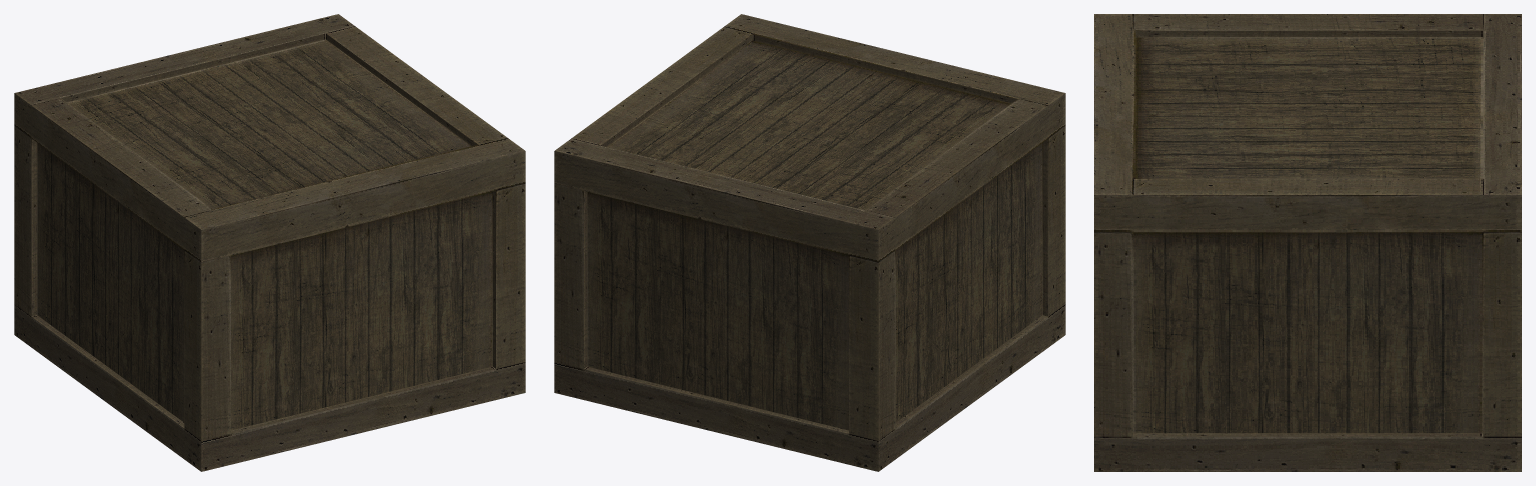
The model's file is wooden_crate_hx_6.glb.
3 views of the same model, side by side, from view 1: azimuth 30°, elevation 25°; view 2: azimuth 150°, elevation 25°; view 3: azimuth 270°, elevation 25° (orthographic). The views are drawn at different scales.
Visible parts, largest first — view 1: wooden_crate_hx_6; view 2: wooden_crate_hx_6; view 3: wooden_crate_hx_6.
Part boxes in pixels (left/top/right/bottom): wooden_crate_hx_6: left=14, top=14, right=525, bottom=471; wooden_crate_hx_6: left=554, top=14, right=1065, bottom=471; wooden_crate_hx_6: left=1094, top=14, right=1521, bottom=471.
Bounding box in the file's own units: 1.4 × 1 × 1.4.
1 material, 1 textured.
